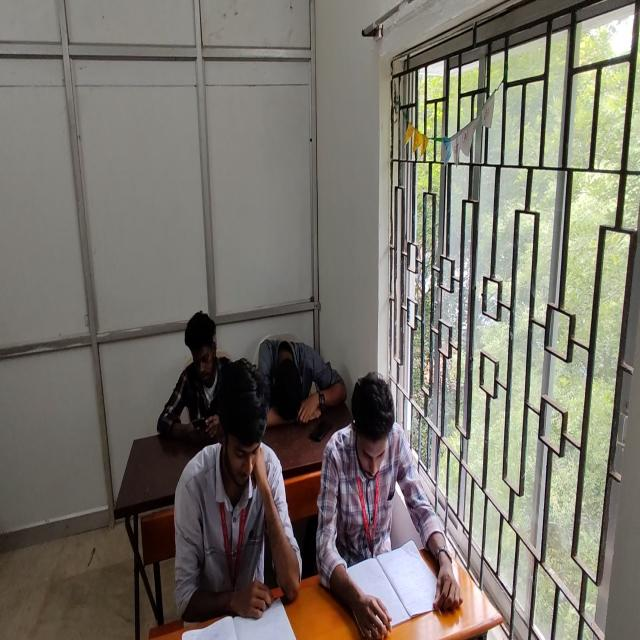reading: (174, 355, 303, 629), (328, 370, 448, 636)
sleeping: (258, 336, 344, 428)
using_mobile: (157, 310, 233, 444)
